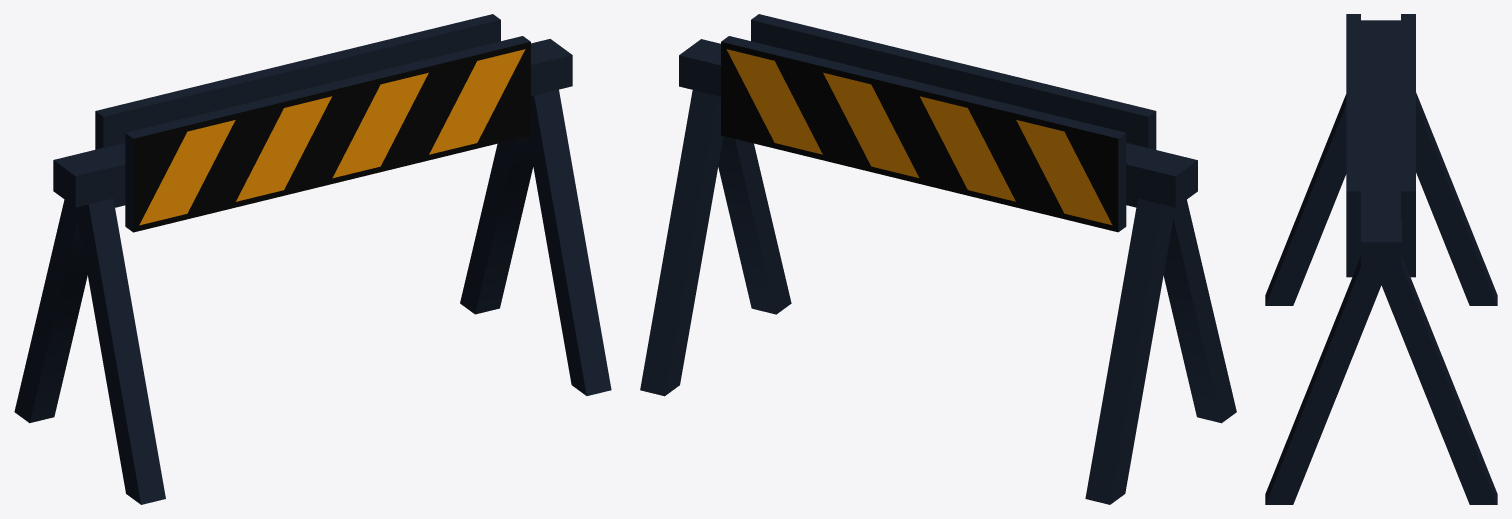
Rendered from Sing_A.fbx.
The picture shows the model from 3 angles, left to right: view 1: azimuth 30°, elevation 25°; view 2: azimuth 150°, elevation 25°; view 3: azimuth 270°, elevation 25°; orthographic projection. The views are drawn at different scales.
Visible parts, largest first — view 1: Sign_A; view 2: Sign_A; view 3: Sign_A.
Boxes of the visible parts, box(x1,y1,x2,y2) form: Sign_A: box(14, 14, 611, 504); Sign_A: box(640, 14, 1236, 504); Sign_A: box(1265, 14, 1497, 504).
Size of the model in its own units: 35.18 by 21.98 by 15.55.
